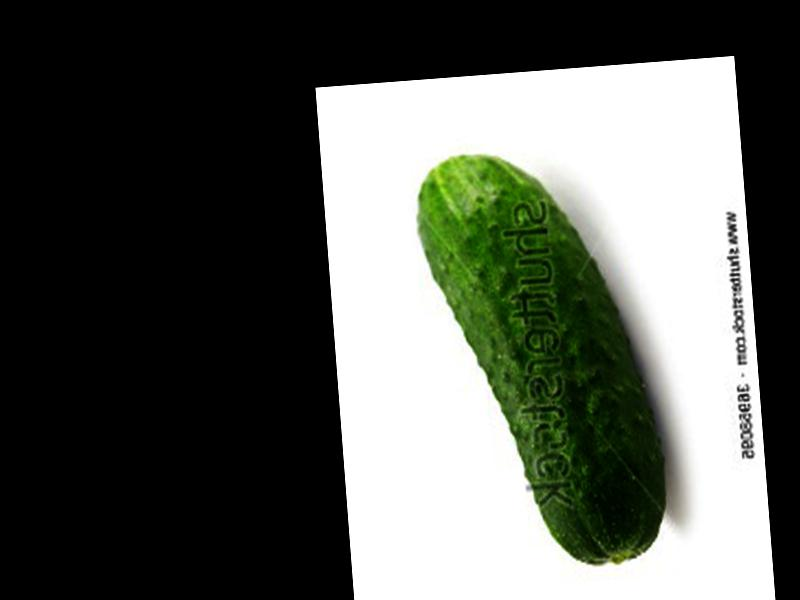Cucumber: (412, 142, 672, 575)
